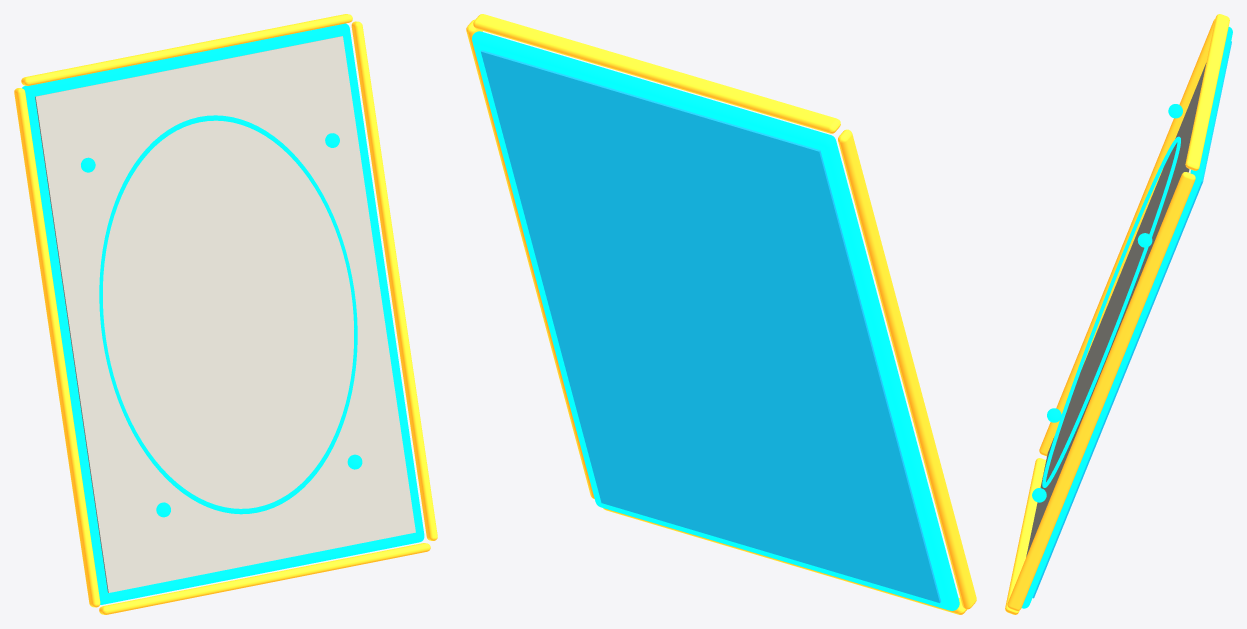
Rendered from purchase-card.glb.
The picture shows the model from 3 angles, left to right: view 1: azimuth 30°, elevation 25°; view 2: azimuth 150°, elevation 25°; view 3: azimuth 270°, elevation 25°; orthographic projection. The views are drawn at different scales.
Parts seen in each view (by area): view 1: CardFront, CardBody, NeonRimLeft, NeonRimRight, BuyerColorHalo, NeonRimBottom, NeonRimTop; view 2: CardBack, CardBody, NeonRimLeft, NeonRimTop, NeonRimRight, NeonRimBottom; view 3: NeonRimRight, CardFront, CardBody, NeonRimLeft, BuyerColorHalo, NeonRimTop, NeonRimBottom, CardBack.
Boxes of the visible parts, x1,y1,x2,y2 form: CardFront: [35, 36, 415, 592]; CardBody: [22, 23, 424, 604]; NeonRimLeft: [14, 88, 100, 607]; NeonRimRight: [351, 21, 437, 540]; BuyerColorHalo: [99, 115, 357, 514]; NeonRimBottom: [99, 543, 430, 614]; NeonRimTop: [21, 14, 352, 85]; CardBack: [480, 50, 940, 602]; CardBody: [472, 31, 959, 610]; NeonRimLeft: [838, 129, 976, 609]; NeonRimTop: [473, 14, 840, 133]; NeonRimRight: [466, 19, 594, 499]; NeonRimBottom: [603, 508, 967, 614]; NeonRimRight: [1007, 172, 1195, 610]; CardFront: [1026, 63, 1206, 556]; CardBody: [1021, 27, 1232, 608]; NeonRimLeft: [1039, 18, 1215, 456]; BuyerColorHalo: [1042, 136, 1180, 487]; NeonRimTop: [1185, 14, 1229, 170]; NeonRimBottom: [1005, 458, 1045, 614]; CardBack: [1032, 41, 1231, 598].
Size of the model in its own units: 2.38 by 3.11 by 1.39.
